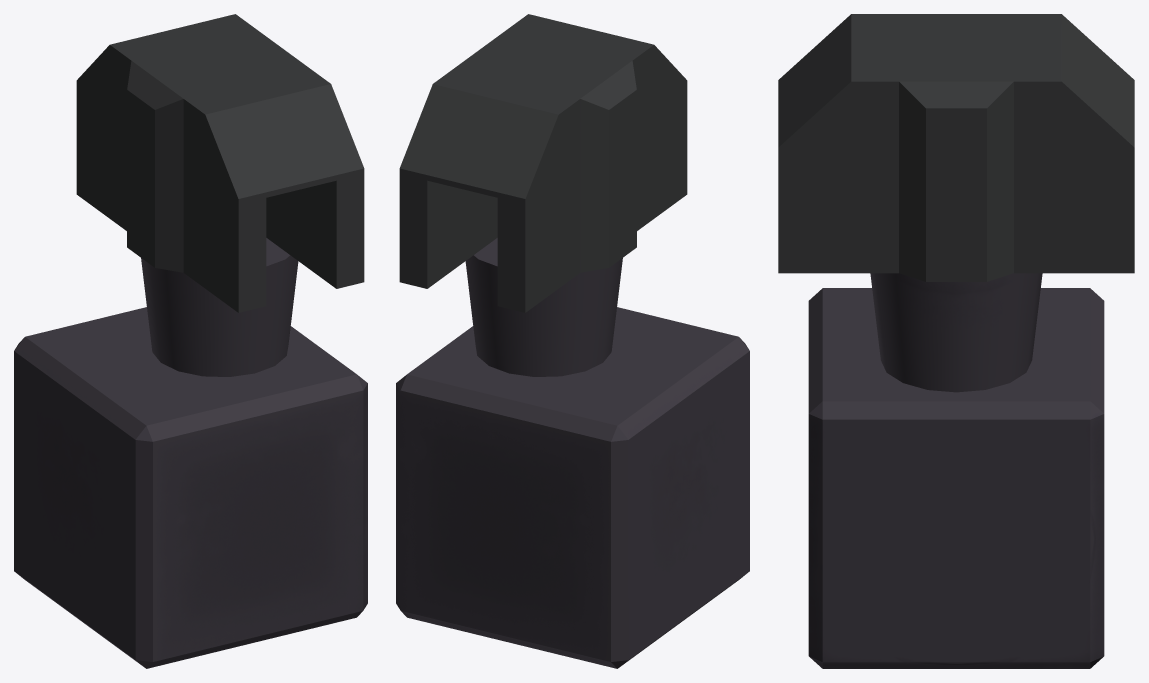
Rendered from VacuumMechanismPart02.dae.
The picture shows the model from 3 angles, left to right: view 1: azimuth 30°, elevation 25°; view 2: azimuth 150°, elevation 25°; view 3: azimuth 270°, elevation 25°; orthographic projection. The views are drawn at different scales.
Visible parts, largest first — view 1: VacuumPart02; view 2: VacuumPart02; view 3: VacuumPart02.
Part boxes in pixels (bbox=[...]): VacuumPart02: bbox=[14, 14, 367, 668]; VacuumPart02: bbox=[396, 14, 749, 668]; VacuumPart02: bbox=[778, 14, 1134, 668].
Size of the model in its own units: 0.1146 by 0.1383 by 0.2484.
1 material, 1 textured.
